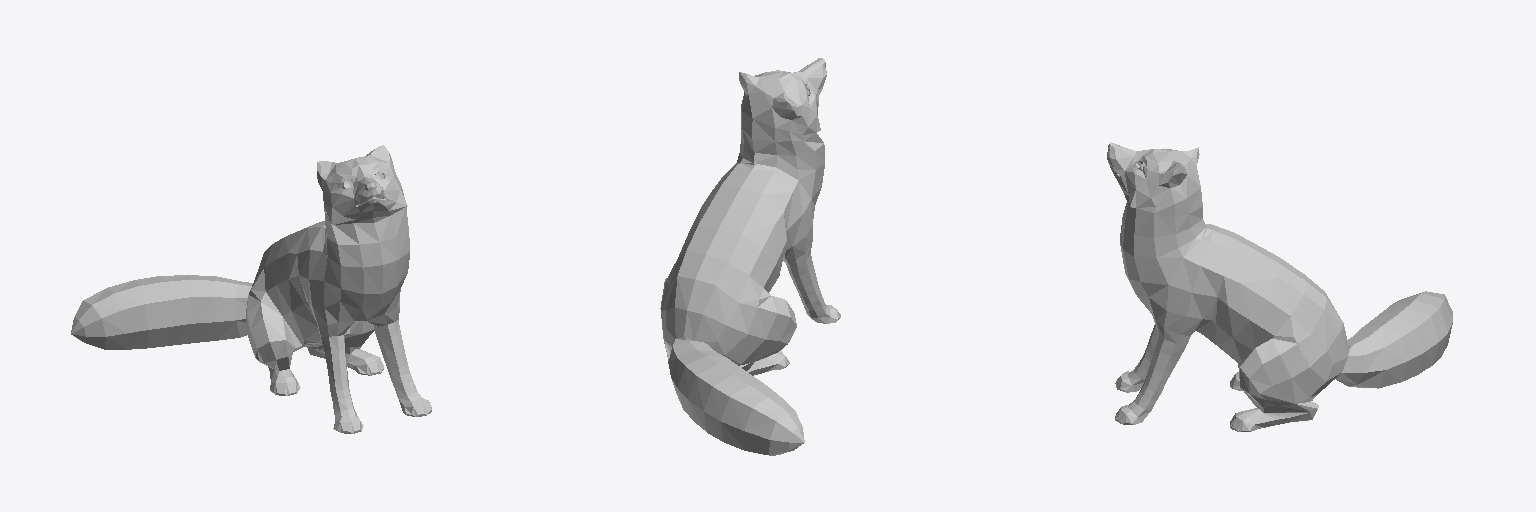
File: arcticfox.obj
3 views of the same model, side by side, from view 1: azimuth 30°, elevation 25°; view 2: azimuth 150°, elevation 25°; view 3: azimuth 270°, elevation 25° (orthographic).
Parts seen in each view (by area): view 1: ArcticFox; view 2: ArcticFox; view 3: ArcticFox.
Part boxes in pixels (left/top/right/bottom): ArcticFox: left=71, top=145, right=431, bottom=433; ArcticFox: left=660, top=58, right=840, bottom=455; ArcticFox: left=1107, top=142, right=1452, bottom=431.
Bounding box in the file's own units: 5.29 × 5.86 × 7.15.